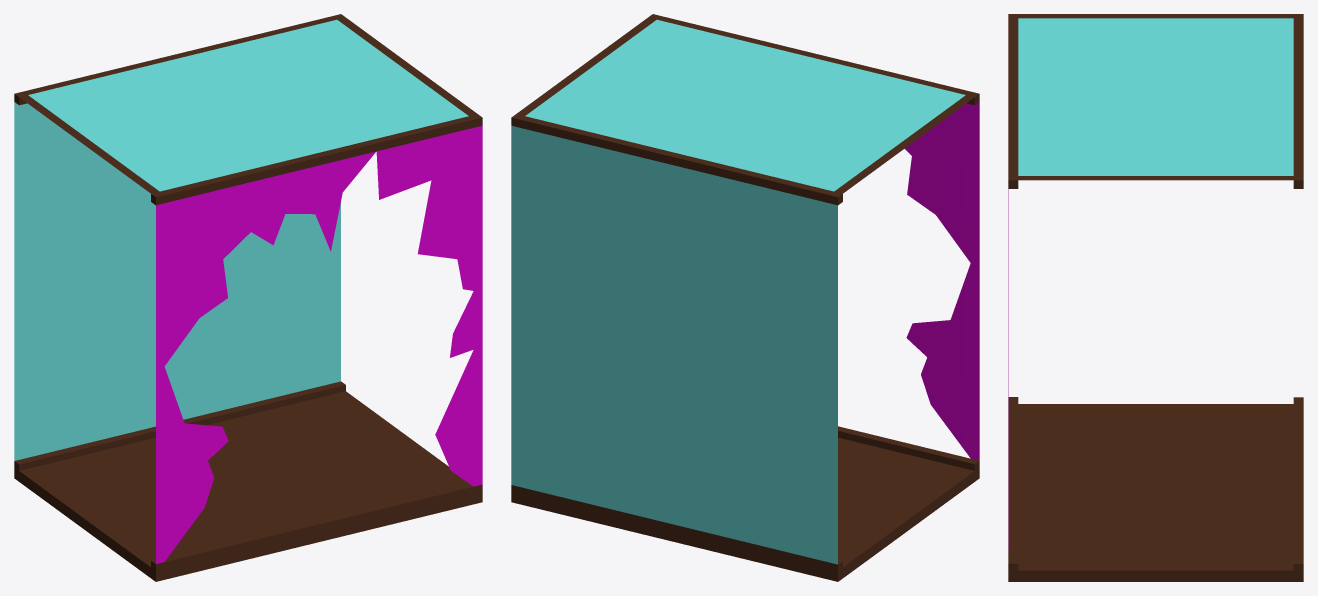
File: TerrariumCenterBroken.fbx
The picture shows the model from 3 angles, left to right: view 1: azimuth 30°, elevation 25°; view 2: azimuth 150°, elevation 25°; view 3: azimuth 270°, elevation 25°; orthographic projection. The views are drawn at different scales.
Parts seen in each view (by area): view 1: Terrarium center broken; view 2: Terrarium center broken; view 3: Terrarium center broken.
Part boxes in pixels (<box>): Terrarium center broken: <box>14,14,482,581</box>; Terrarium center broken: <box>511,14,979,581</box>; Terrarium center broken: <box>1008,14,1303,581</box>.
Size of the model in its own units: 400 by 450 by 300.
